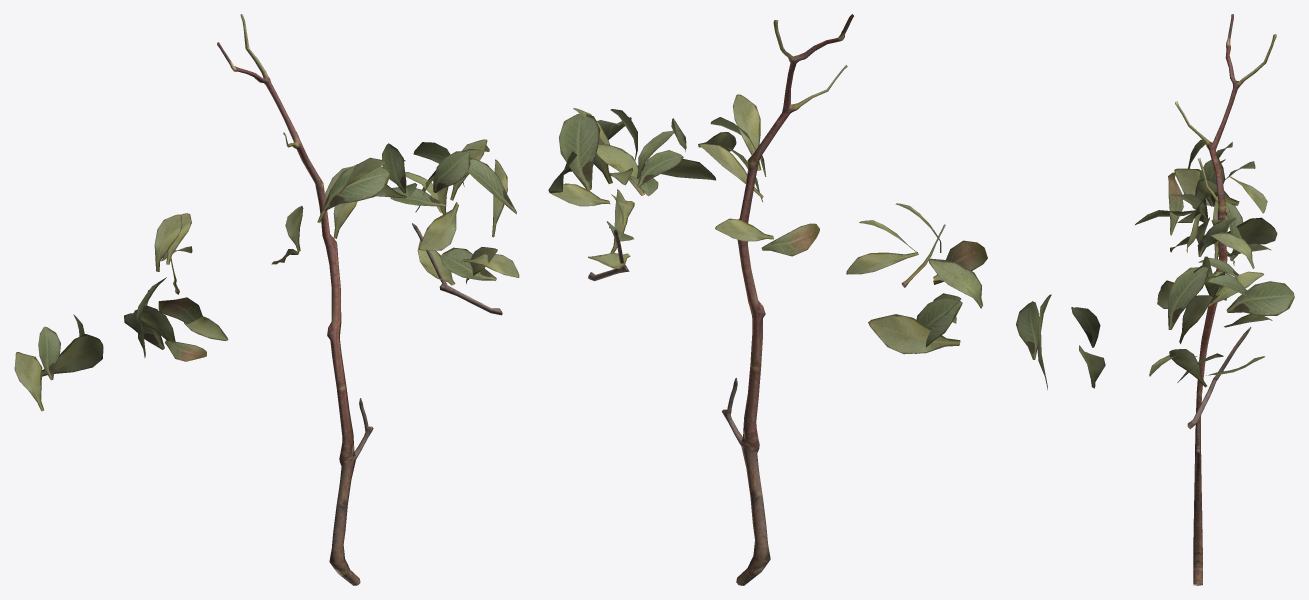
Rendered from shrub_04.glb.
3 views of the same model, side by side, from view 1: azimuth 30°, elevation 25°; view 2: azimuth 150°, elevation 25°; view 3: azimuth 270°, elevation 25° (orthographic). The views are drawn at different scales.
Parts seen in each view (by area): view 1: shrub_04; view 2: shrub_04; view 3: shrub_04.
Boxes of the visible parts, left/top/right/bottom form: shrub_04: left=14, top=14, right=519, bottom=585; shrub_04: left=548, top=14, right=1105, bottom=585; shrub_04: left=1135, top=14, right=1294, bottom=585.
Bounding box in the file's own units: 0.5732 × 0.6257 × 0.1747.
1 material, 1 textured.
